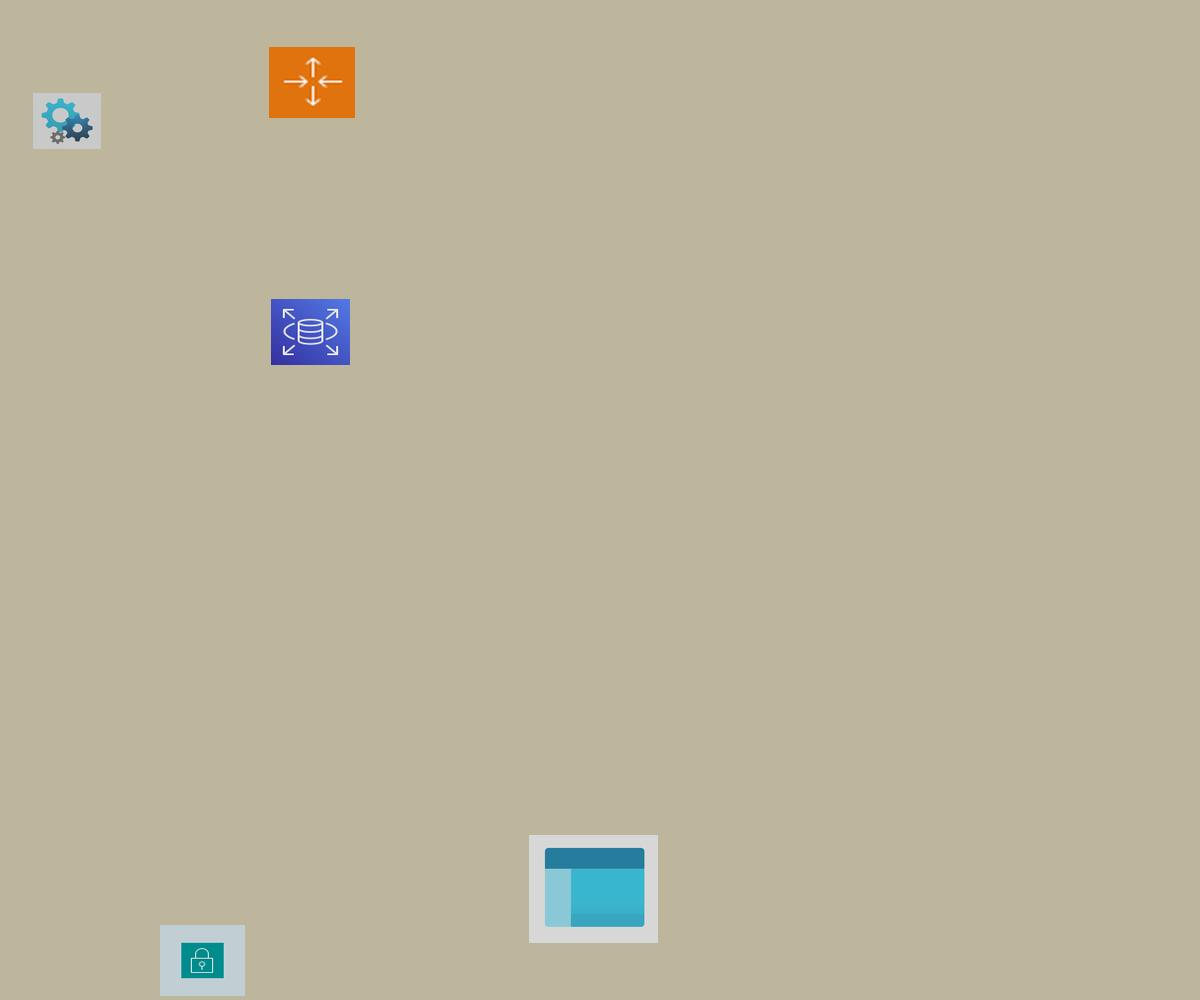AWS-Private-subnet: (160, 925, 245, 996)
AWS-RDS: (271, 299, 350, 365)
AWS-Scaling-group: (269, 47, 355, 118)
Azure_api: (33, 93, 101, 149)
Azure_management-portal: (529, 835, 658, 943)
